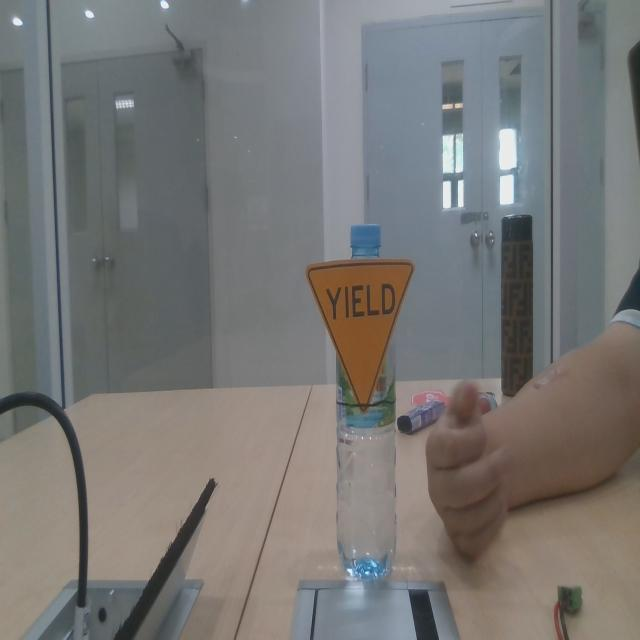Yield: (302, 252, 418, 412)
